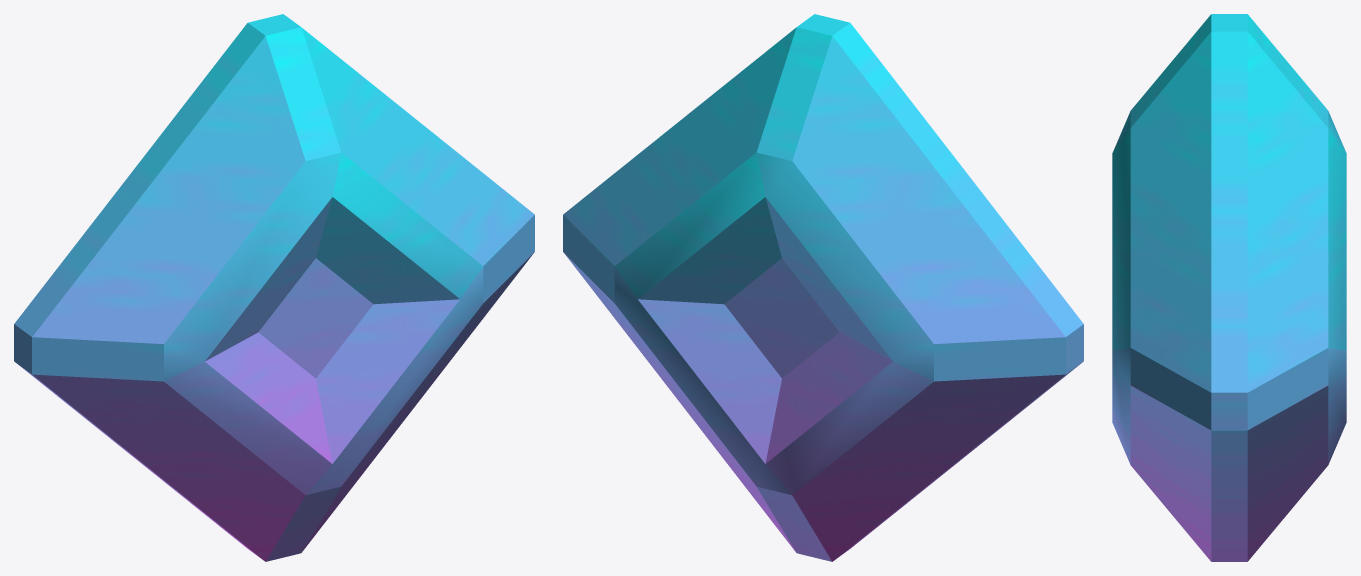
File: gem-large.glb
3 views of the same model, side by side, from view 1: azimuth 30°, elevation 25°; view 2: azimuth 150°, elevation 25°; view 3: azimuth 270°, elevation 25° (orthographic).
Visible parts, largest first — view 1: Gem_Large; view 2: Gem_Large; view 3: Gem_Large.
Boxes of the visible parts, <box> form: Gem_Large: <box>14,14,534,561</box>; Gem_Large: <box>563,14,1083,561</box>; Gem_Large: <box>1112,14,1346,561</box>.
Bounding box in the file's own units: 0.75 × 0.75 × 0.3.
Materials: 1 (1 with a texture image).
